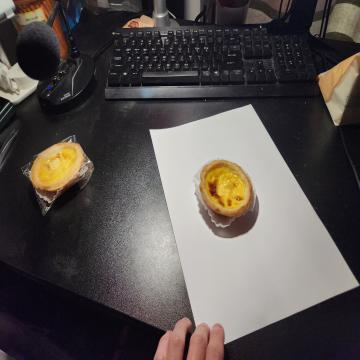EggTart: (198, 158, 253, 219)
